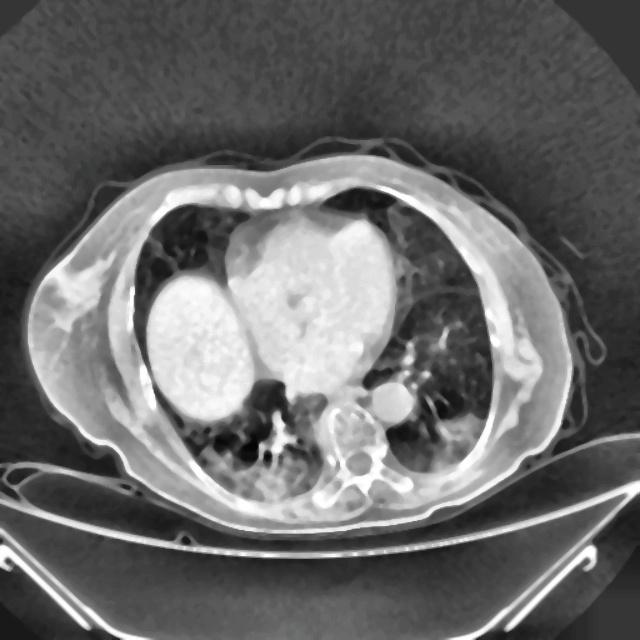covid: (24, 141, 584, 539)
